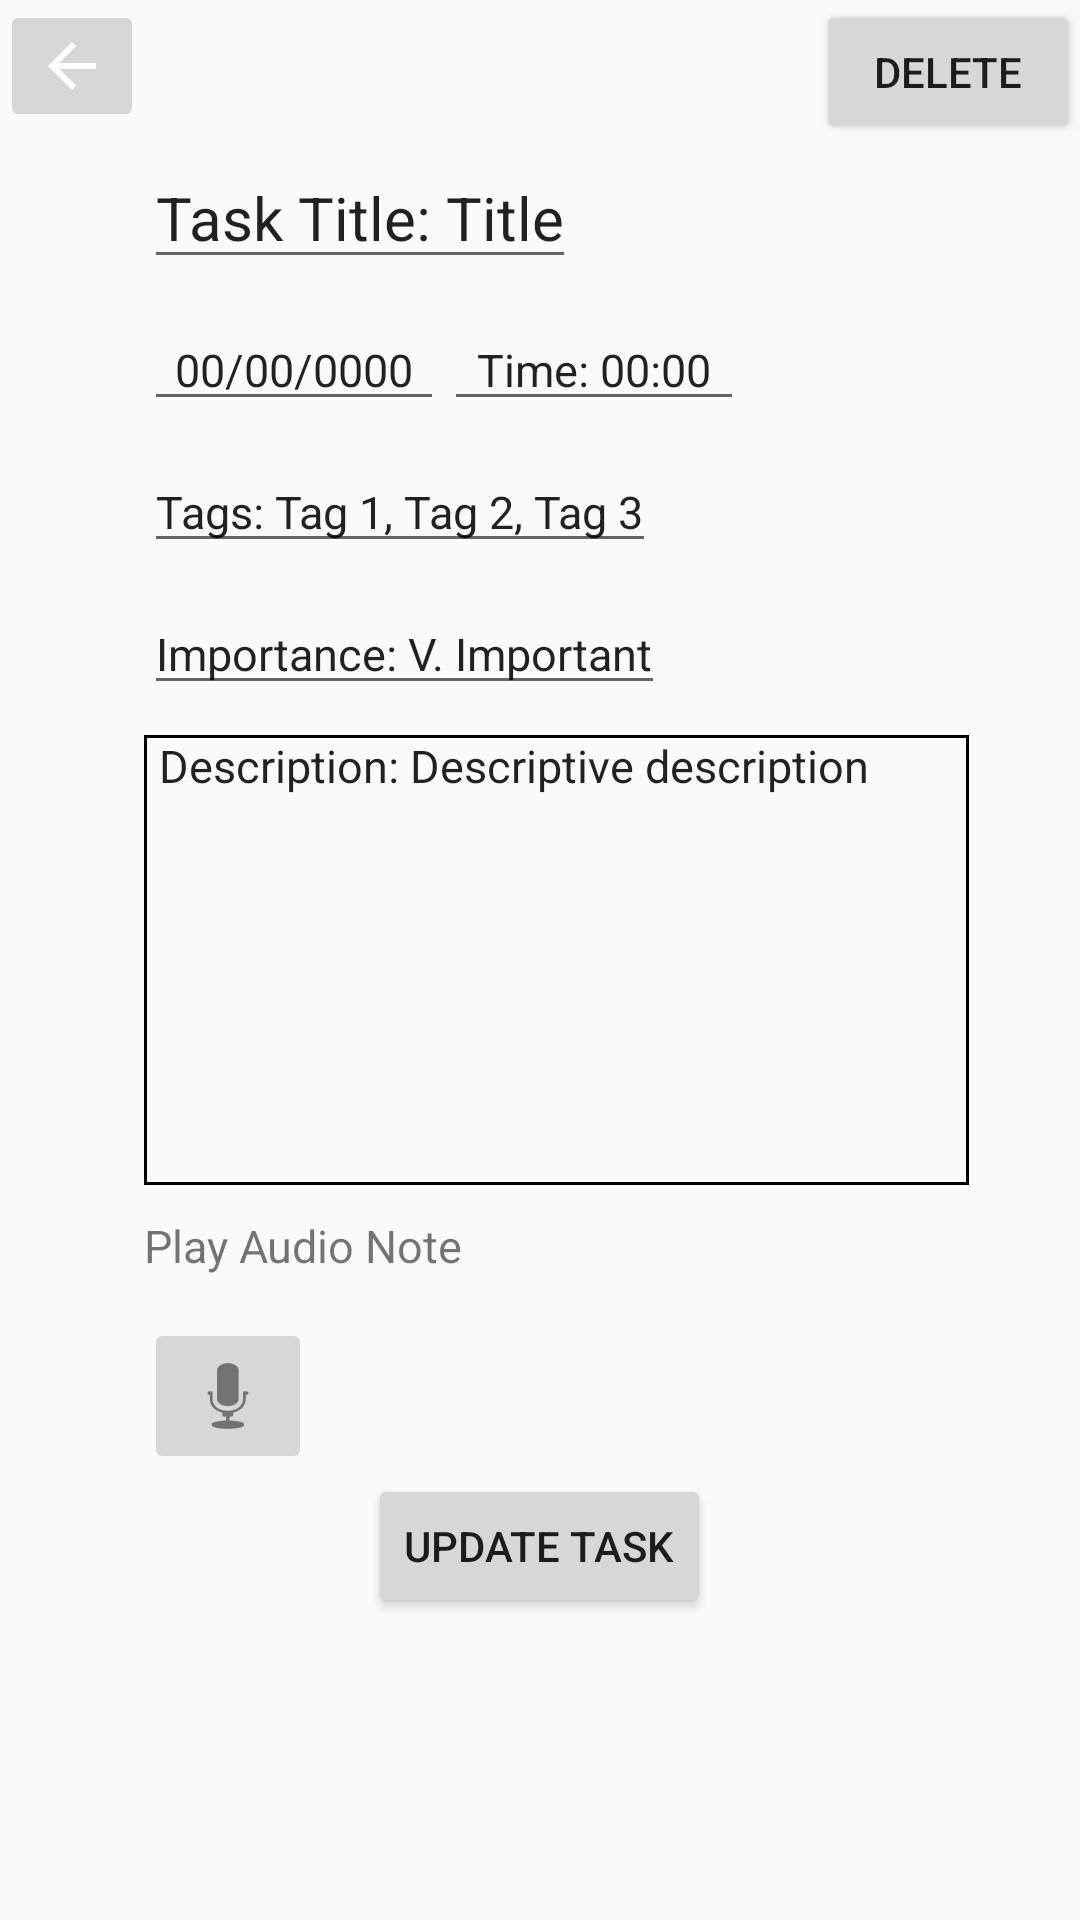

Icon click points for this 1080*1920 phone screenshot, format (x,y):
speak now: (228,1396)
